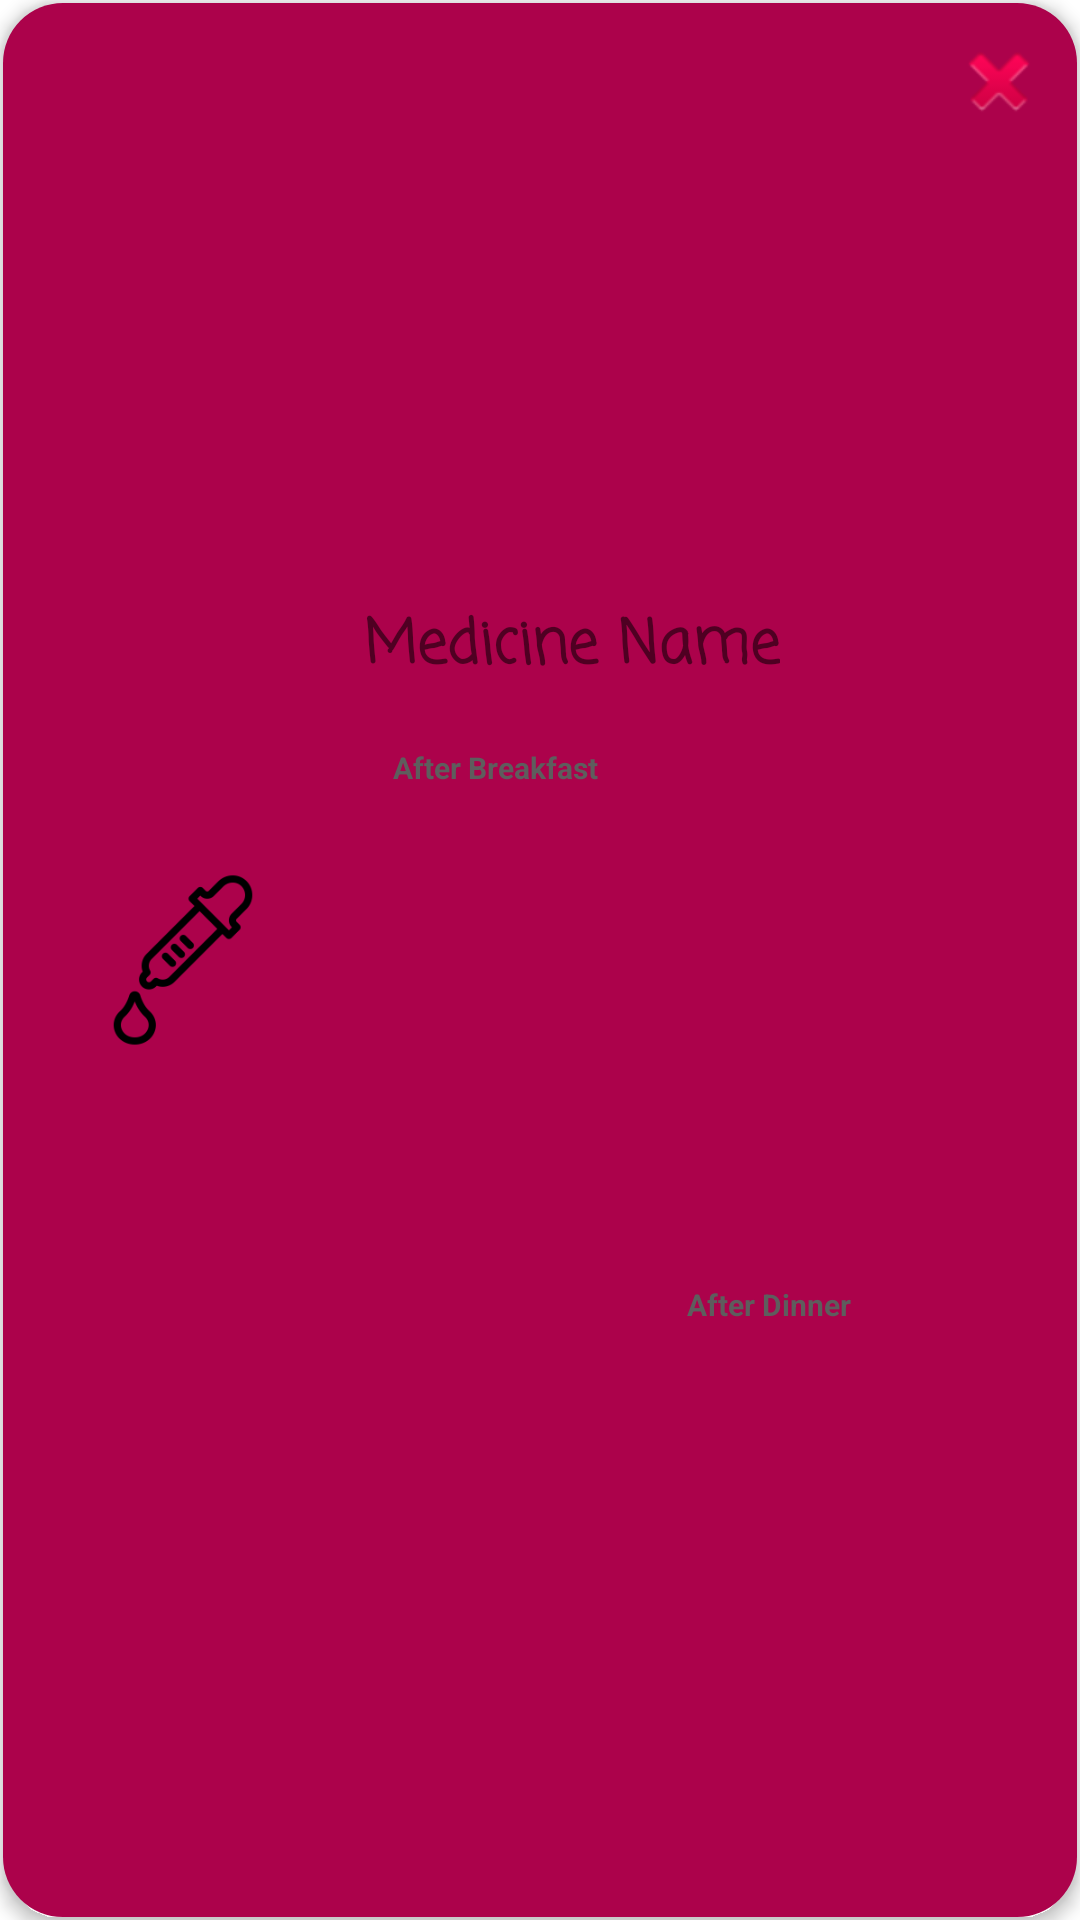

Icon bounding boxes for this 1080px x 1920px phone screenshot, format (x1, y1, x2, y2):
delete: (969, 54, 1029, 111)
drop: (113, 875, 253, 1045)
